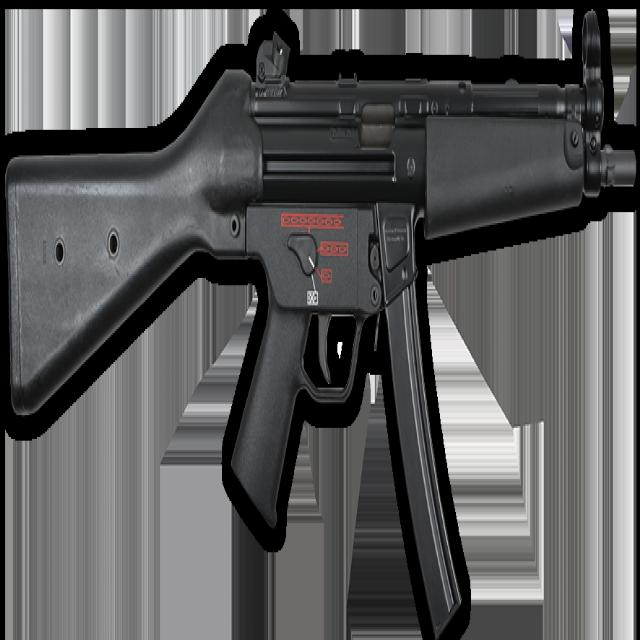Weapon: (6, 11, 636, 635)
